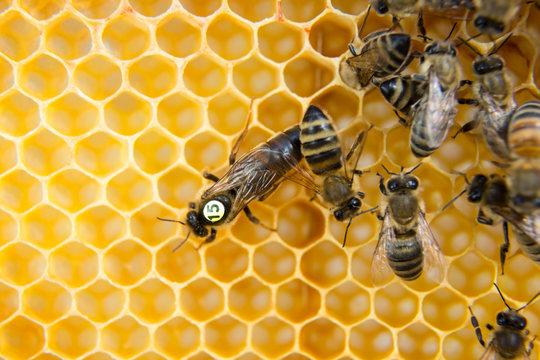Queen-Bee: (161, 124, 318, 247)
worker-bee: (371, 163, 445, 285), (466, 158, 539, 273), (300, 105, 366, 224), (454, 34, 515, 156), (410, 26, 461, 157), (507, 100, 539, 214)
